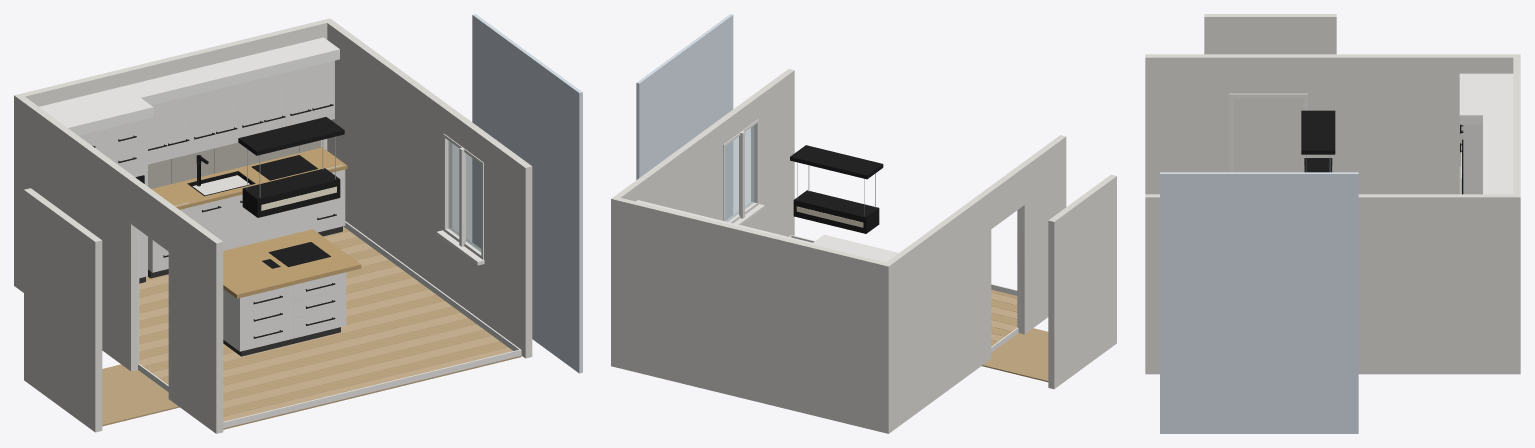
Rendered from kitchen_open.obj.
3 renders of one model, left to right at view 1: azimuth 30°, elevation 25°; view 2: azimuth 150°, elevation 25°; view 3: azimuth 270°, elevation 25°, orthographic. The views are drawn at different scales.
Parts seen in each view (by area): view 1: sky_001, wall_002, wall_009, wall_006, wall_008, cabinet_003, wall_005, cabinet_004, wall_001, cabinet_002, ceiling_002, worktop_oak_005 (+39 smaller); view 2: wall_001, wall_006, wall_009, sky_001, wall_002, wall_008, wall_005, floor_wood_b_014, black_100, glass_001, black_101, wall_007 (+3 smaller); view 3: sky_001, wall_002, wall_006, wall_009, wall_008, wall_007, wall_005, ceiling_001, wall_001, ceiling_002, black_101, cabinet_001 (+3 smaller).
Part boxes in pixels (<box>): sky_001: <box>472,14,582,373</box>; wall_002: <box>324,18,450,292</box>; wall_009: <box>24,188,102,432</box>; wall_006: <box>14,94,137,371</box>; wall_008: <box>168,207,223,433</box>; cabinet_003: <box>148,60,334,164</box>; wall_005: <box>484,136,532,358</box>; cabinet_004: <box>223,272,346,351</box>; wall_001: <box>14,18,332,288</box>; cabinet_002: <box>148,169,344,272</box>; ceiling_002: <box>125,37,339,105</box>; worktop_oak_005: <box>223,229,361,298</box>; wall_001: <box>611,198,891,433</box>; wall_006: <box>882,190,991,433</box>; wall_009: <box>1048,174,1116,389</box>; sky_001: <box>636,14,733,219</box>; wall_002: <box>611,121,723,366</box>; wall_008: <box>1018,135,1066,334</box>; wall_005: <box>752,69,794,236</box>; floor_wood_b_014: <box>982,328,1048,382</box>; black_100: <box>793,190,879,233</box>; glass_001: <box>725,125,754,221</box>; black_101: <box>790,145,883,179</box>; wall_007: <box>986,165,1024,228</box>; sky_001: <box>1160,172,1358,433</box>; wall_002: <box>1358,194,1520,374</box>; wall_006: <box>1303,54,1516,194</box>; wall_009: <box>1204,14,1336,172</box>; wall_008: <box>1145,54,1233,194</box>; wall_007: <box>1233,54,1303,93</box>; wall_005: <box>1145,194,1159,374</box>; ceiling_001: <box>1459,73,1513,124</box>; wall_001: <box>1513,54,1520,374</box>; ceiling_002: <box>1483,115,1513,194</box>; black_101: <box>1301,110,1335,154</box>; cabinet_001: <box>1463,124,1482,194</box>.
Size of the model in its own units: 6.75 by 3.9 by 5.1.
